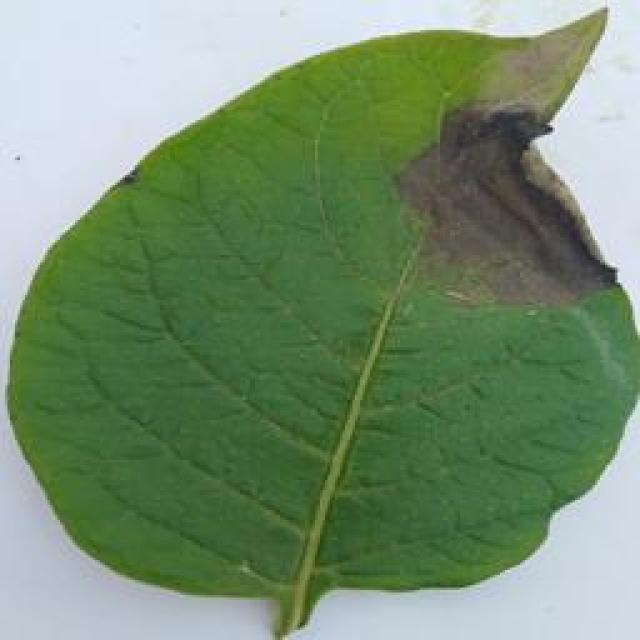Potato_Late_Blight: (9, 12, 628, 632)
